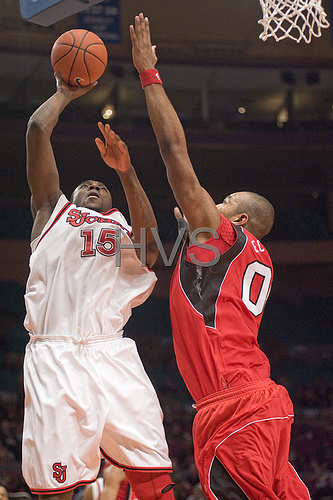basketball: (50, 27, 108, 86)
